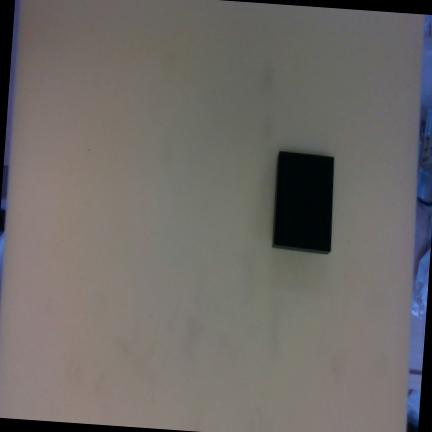tile: (273, 151, 334, 252)
